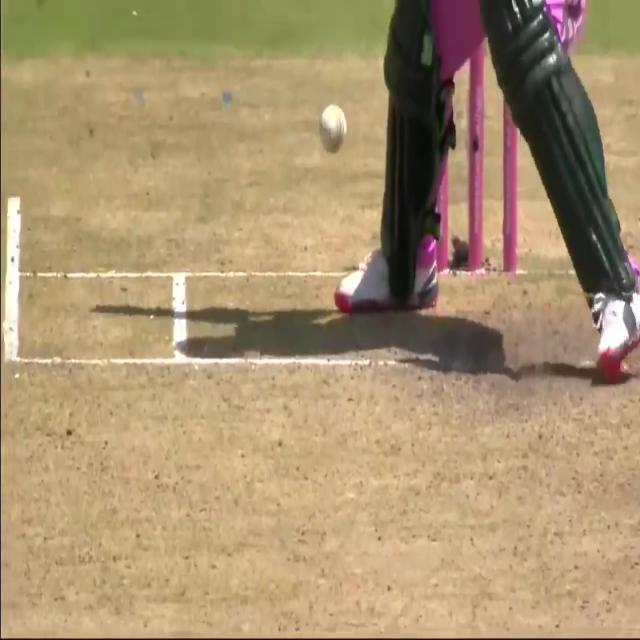Batsman: (314, 93, 351, 159)
